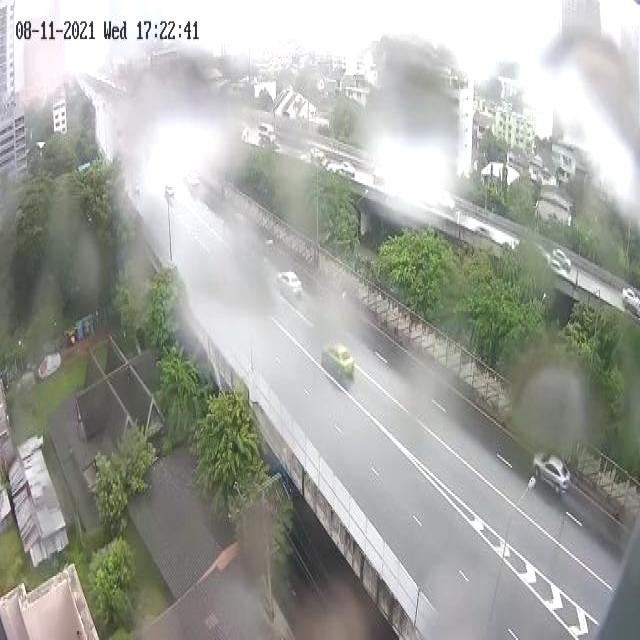Car: (318, 329, 358, 388), (533, 452, 571, 494), (268, 460, 295, 498), (276, 270, 303, 301), (621, 287, 640, 319), (550, 249, 572, 275), (470, 223, 498, 241), (257, 122, 276, 146), (414, 191, 438, 209), (436, 192, 456, 210), (372, 168, 389, 187), (338, 161, 356, 178), (186, 171, 200, 191), (324, 161, 342, 175), (309, 147, 325, 162), (164, 183, 175, 199), (299, 151, 313, 163)
